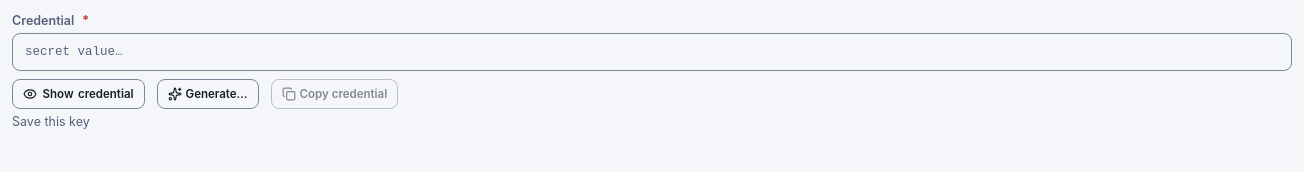
Test: SensitiveValueField › keeps Copy mounted and disabled while the value is empty
Expected: the 2nd button named "Copy credential" is disabled, [271,79,398,109]
Type "s3cret" into the password field labelled "Credential *".
click(652, 52); type("s3cret")  # box [12,33,1292,71]
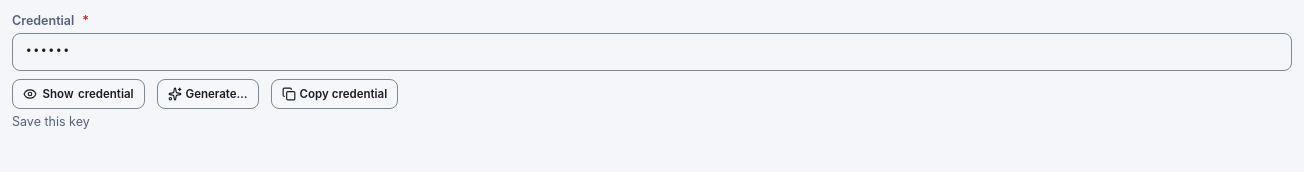
Result: the 2nd button named "Copy credential" is enabled at [271,79,398,109]
